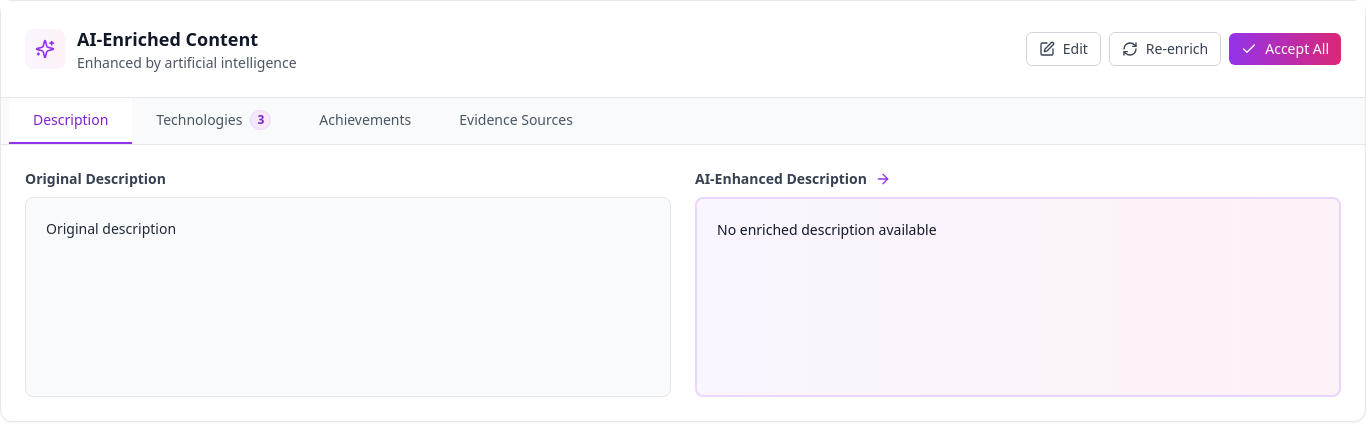
it: EnrichedContentViewer › switches to technologies tab when clicked
What coordinates should you click on to do the following:
click the button "Technologies 3"
I would click on:
 (214, 121)
Its box is [132,98,295,144].
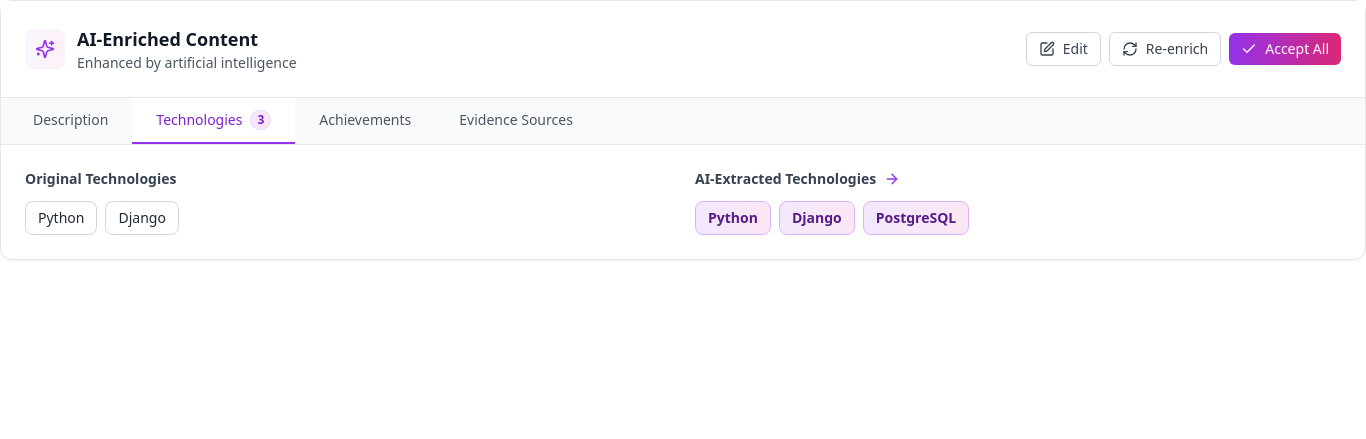
Result: the heading "Original Technologies" is shown at [25,169,176,188]
Result: the heading "AI-Extracted Technologies" is shown at [695,169,876,189]
Result: the text "PostgreSQL" is shown at [863,201,969,235]
